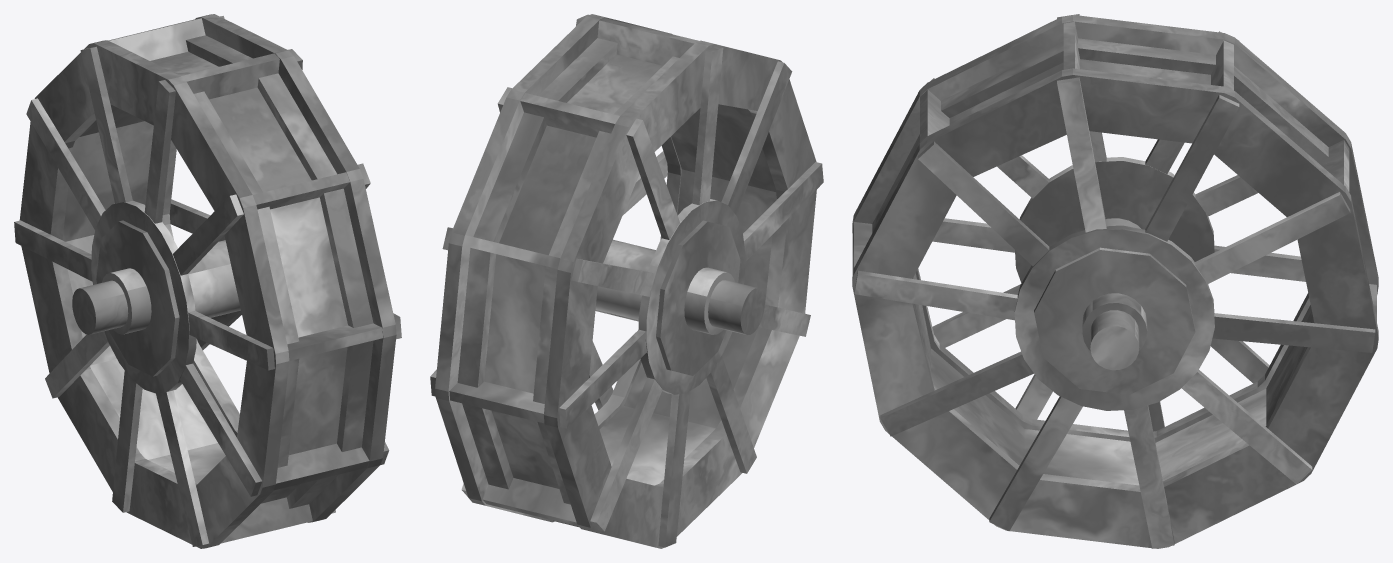
File: SM_paddle_wheel.fbx
3 views of the same model, side by side, from view 1: azimuth 30°, elevation 25°; view 2: azimuth 150°, elevation 25°; view 3: azimuth 270°, elevation 25° (orthographic). The views are drawn at different scales.
Visible parts, largest first — view 1: SM_paddle_wheel; view 2: SM_paddle_wheel; view 3: SM_paddle_wheel.
Boxes of the visible parts, bbox=[...] form: SM_paddle_wheel: bbox=[14, 14, 401, 548]; SM_paddle_wheel: bbox=[430, 14, 823, 548]; SM_paddle_wheel: bbox=[852, 14, 1378, 548].
Size of the model in its own units: 698 by 1209 by 1201.
Materials: 1 (1 with a texture image).
